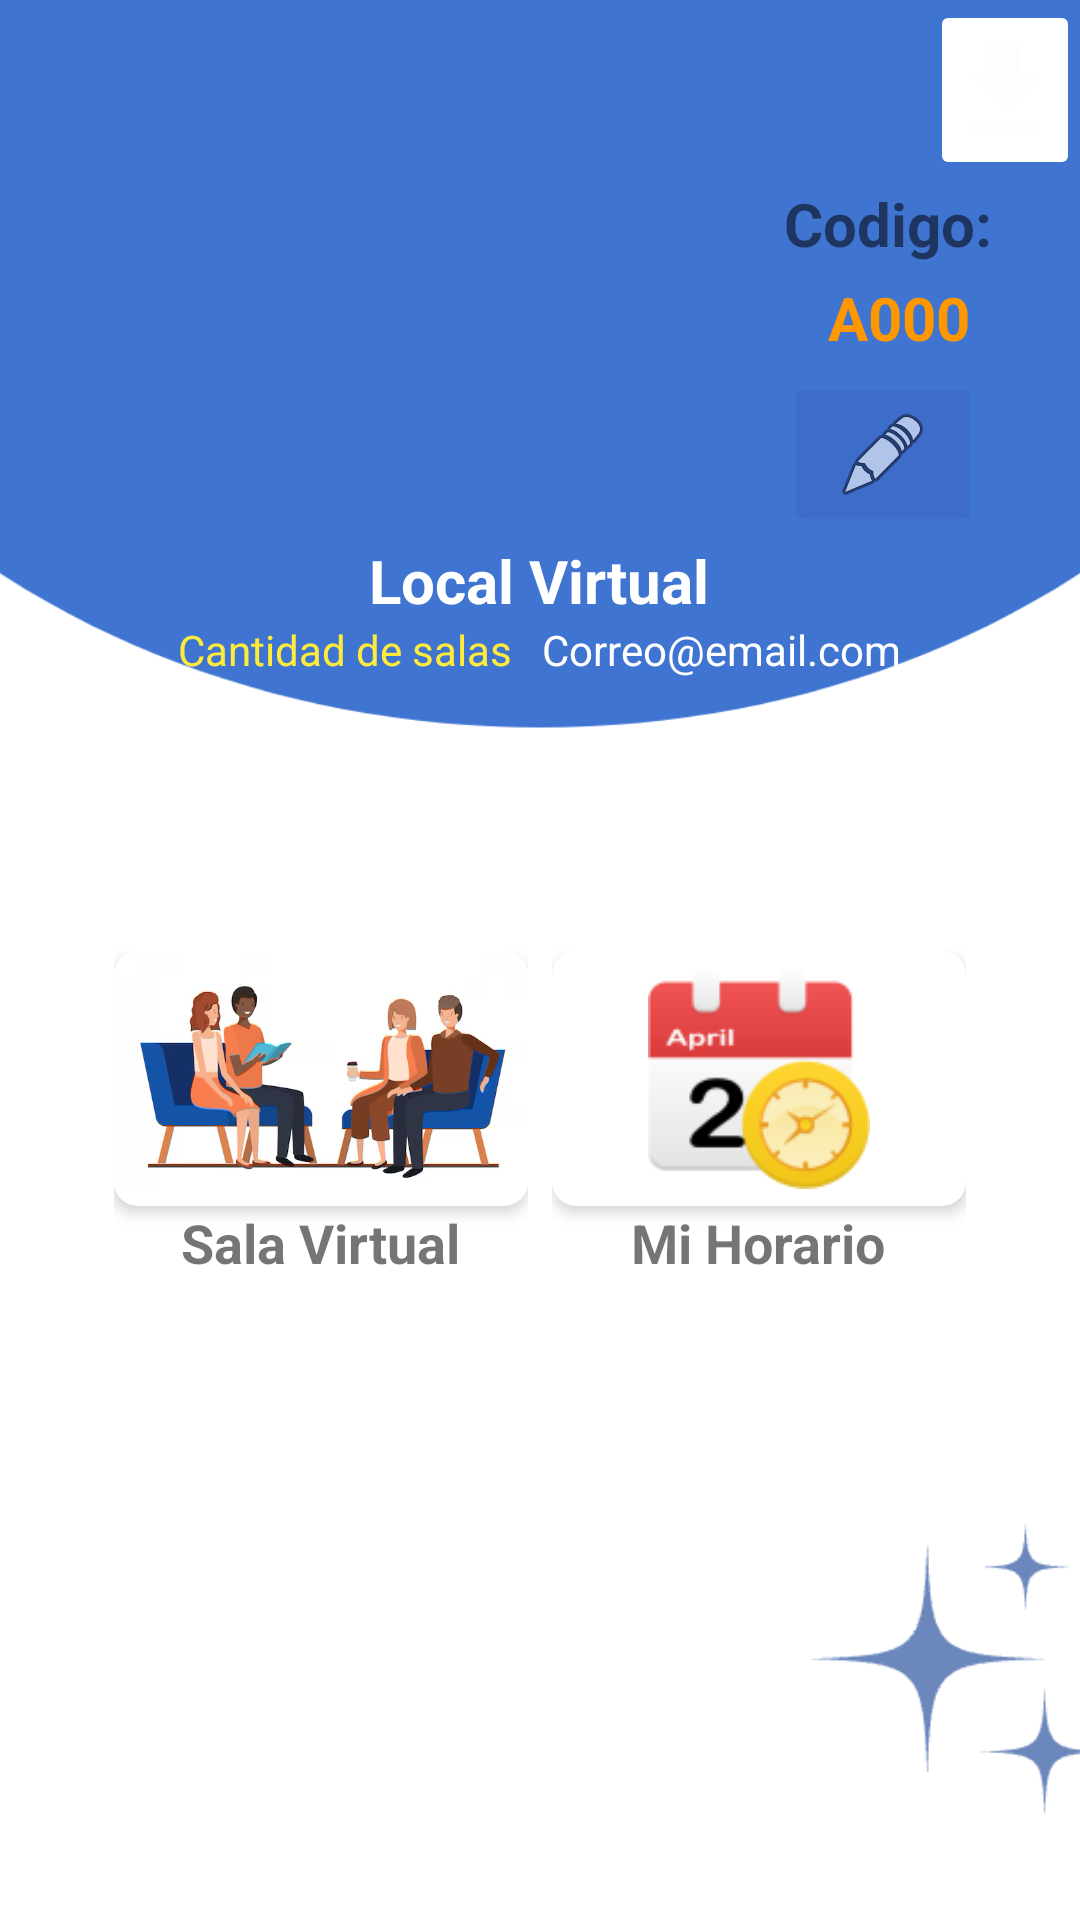

Point at icon controls on the screen. Image size 1080 x 1920, points as [x,y].
calen: [759,1084]
edit: [882,454]
